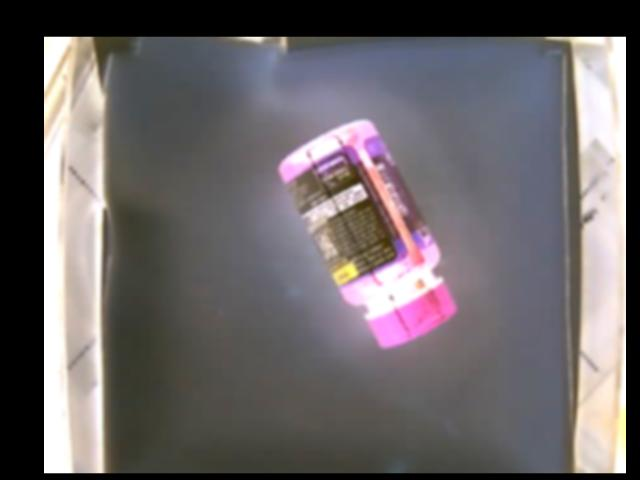Bottle: (278, 118, 457, 349)
